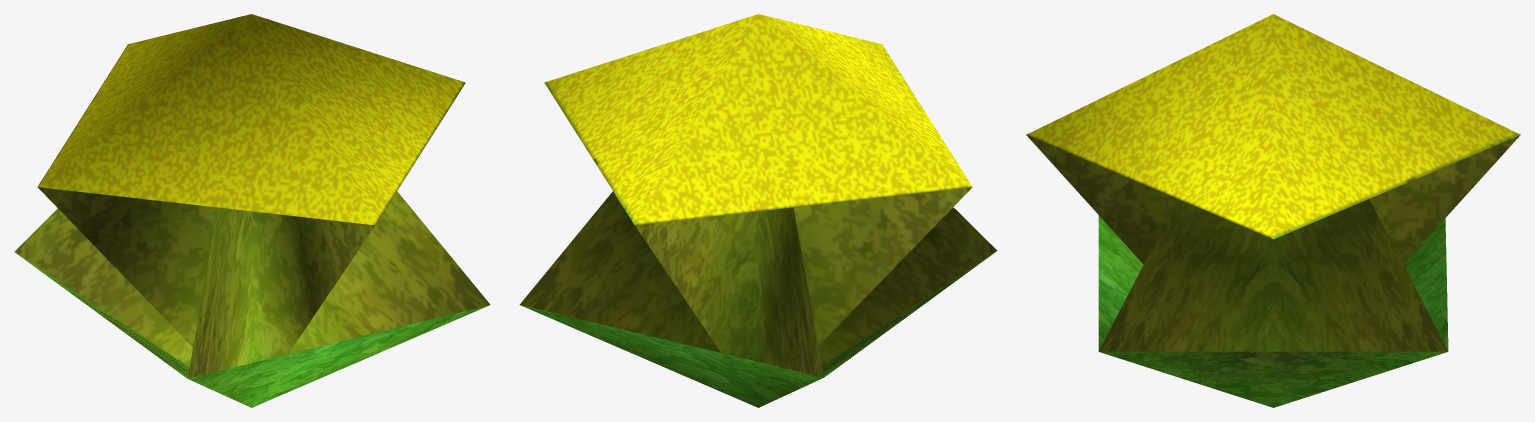
File: gele_lis_1.fbx
3 renders of one model, left to right at view 1: azimuth 30°, elevation 25°; view 2: azimuth 150°, elevation 25°; view 3: azimuth 270°, elevation 25°, orthographic.
Visible parts, largest first — view 1: gele_lis; view 2: gele_lis; view 3: gele_lis.
Part boxes in pixels (box(x1,y1,x2,y2)): gele_lis: box(14, 14, 490, 407); gele_lis: box(519, 14, 997, 407); gele_lis: box(1026, 14, 1520, 407).
Bounding box in the file's own units: 251 × 220 × 251.
